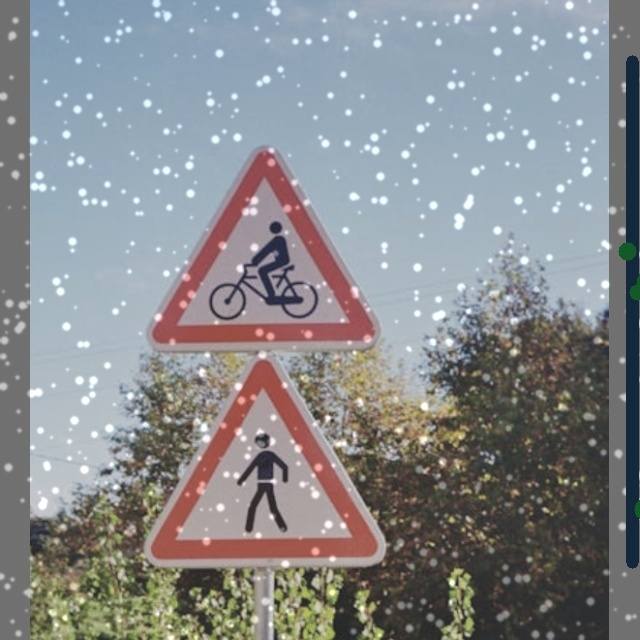Cycle_Crossing: (143, 143, 380, 355)
